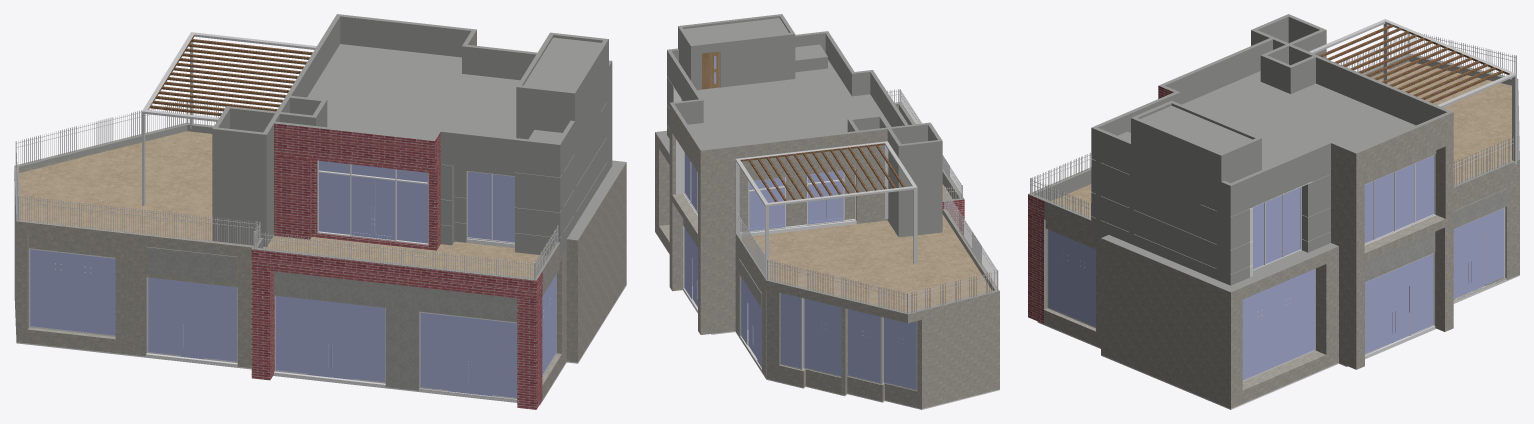
3 views of the same model, side by side, from view 1: azimuth 30°, elevation 25°; view 2: azimuth 150°, elevation 25°; view 3: azimuth 270°, elevation 25° (orthographic). The views are drawn at different scales.
Visible parts, largest first — view 1: SLAB SLAB [355749], SLAB1 SLAB [357825], Generic Models 5 Generic Models 5 [403945], Basic Wall WALL-20CM [391903], Basic Wall WALL-20CM [364999], Basic Wall WALL-20CM [381104], B B [380904], Basic Wall WALL-20CM [393139], Basic Wall WALL-20CM [381247], Basic Wall WALL-20CM [381692], Basic Wall WALL-20CM [377881], SLAB SLAB [355749].006 (+62 smaller); view 2: SLAB SLAB [355749], SLAB1 SLAB [357825], Generic Models 5 Generic Models 5 [403945], Basic Wall WALL-20CM [365552], Basic Wall WALL-20CM [389717], Basic Wall WALL-20CM [636136], Basic Wall WALL-20CM [391984], Walls 1 Walls 1 [582195], B B [380904], SLAB3 SLAB [623794], COL-2 COL-2 [360388], Basic Wall WALL-20CM [374105] (+66 smaller); view 3: Basic Wall WALL-20CM [364999], SLAB1 SLAB [357825], SLAB SLAB [355749], Generic Models 5 Generic Models 5 [403945], B B [380904], Basic Wall WALL-20CM [377811], Basic Wall WALL-20CM [390116], Basic Wall WALL-20CM [636136], Basic Wall WALL-20CM [381438], Basic Wall WALL-20CM [381247], Basic Wall WALL-20CM [381104], Basic Wall WALL-20CM [618134] (+63 smaller).
Part boxes in pixels (x1=…): SLAB SLAB [355749]: x1=14, y1=131, x2=626, y2=300; SLAB1 SLAB [357825]: x1=274, y1=44, x2=612, y2=176; Generic Models 5 Generic Models 5 [403945]: x1=142, y1=32, x2=316, y2=205; Basic Wall WALL-20CM [391903]: x1=212, y1=127, x2=263, y2=245; Basic Wall WALL-20CM [364999]: x1=579, y1=177, x2=625, y2=359; Basic Wall WALL-20CM [381104]: x1=269, y1=121, x2=435, y2=168; B B [380904]: x1=14, y1=128, x2=626, y2=295; Basic Wall WALL-20CM [393139]: x1=251, y1=247, x2=537, y2=292; Basic Wall WALL-20CM [381247]: x1=340, y1=14, x2=476, y2=57; Basic Wall WALL-20CM [381692]: x1=436, y1=129, x2=556, y2=171; Basic Wall WALL-20CM [377881]: x1=515, y1=172, x2=555, y2=255; SLAB SLAB [355749].006: x1=274, y1=271, x2=399, y2=309; SLAB SLAB [355749]: x1=655, y1=138, x2=999, y2=323; SLAB1 SLAB [357825]: x1=667, y1=60, x2=891, y2=176; Generic Models 5 Generic Models 5 [403945]: x1=735, y1=141, x2=917, y2=280; Basic Wall WALL-20CM [365552]: x1=931, y1=308, x2=992, y2=406; Basic Wall WALL-20CM [389717]: x1=694, y1=33, x2=791, y2=90; Basic Wall WALL-20CM [636136]: x1=699, y1=127, x2=887, y2=172; Basic Wall WALL-20CM [391984]: x1=897, y1=140, x2=938, y2=237; Walls 1 Walls 1 [582195]: x1=779, y1=364, x2=917, y2=407; B B [380904]: x1=655, y1=130, x2=999, y2=319; SLAB3 SLAB [623794]: x1=684, y1=18, x2=788, y2=44; COL-2 COL-2 [360388]: x1=711, y1=92, x2=871, y2=240; Basic Wall WALL-20CM [374105]: x1=704, y1=173, x2=733, y2=241; Basic Wall WALL-20CM [364999]: x1=1104, y1=247, x2=1227, y2=407; SLAB1 SLAB [357825]: x1=1091, y1=71, x2=1453, y2=216; SLAB SLAB [355749]: x1=1028, y1=61, x2=1519, y2=303; Generic Models 5 Generic Models 5 [403945]: x1=1309, y1=19, x2=1516, y2=164; B B [380904]: x1=1028, y1=59, x2=1519, y2=299; Basic Wall WALL-20CM [377811]: x1=1134, y1=177, x2=1221, y2=281; Basic Wall WALL-20CM [390116]: x1=1131, y1=116, x2=1220, y2=206; Basic Wall WALL-20CM [636136]: x1=1289, y1=44, x2=1453, y2=139; Basic Wall WALL-20CM [381438]: x1=1227, y1=142, x2=1330, y2=211; Basic Wall WALL-20CM [381247]: x1=1353, y1=112, x2=1450, y2=179; Basic Wall WALL-20CM [381104]: x1=1158, y1=37, x2=1275, y2=104; Basic Wall WALL-20CM [618134]: x1=1091, y1=159, x2=1129, y2=242.
Size of the model in its own units: 25.54 by 12.06 by 22.07.
Materials: 11 (9 with a texture image).
